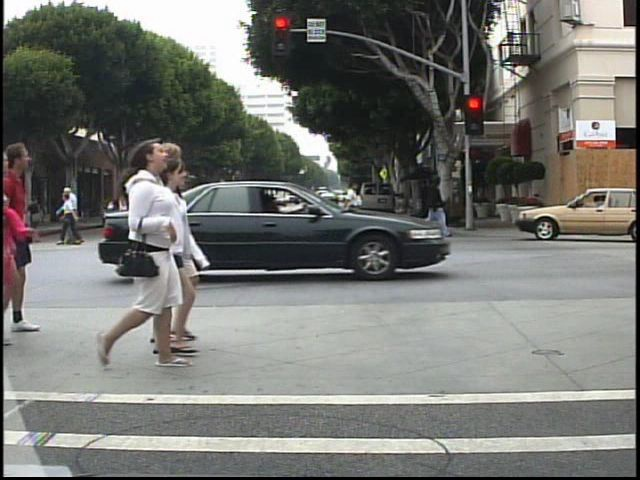person: (100, 139, 195, 379), (136, 156, 201, 367), (156, 144, 216, 351), (415, 167, 451, 240), (340, 177, 367, 241), (168, 186, 192, 249), (59, 191, 84, 249), (222, 182, 245, 240), (61, 184, 82, 247), (347, 187, 362, 223)
